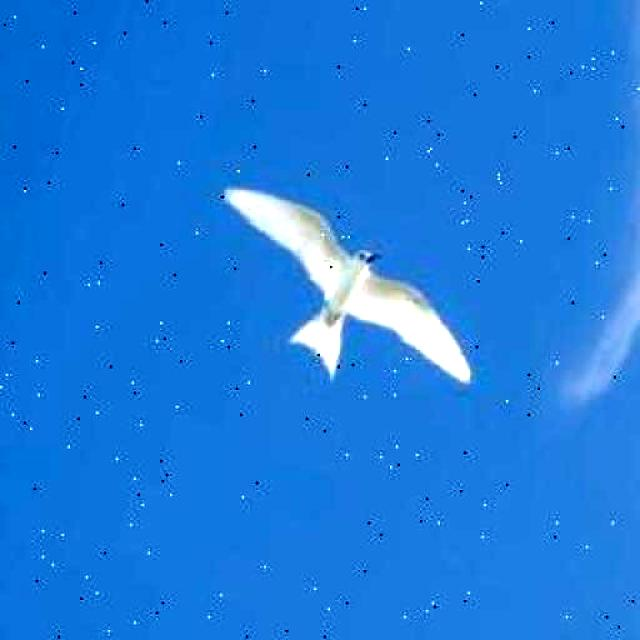airplane: (186, 181, 502, 411)
